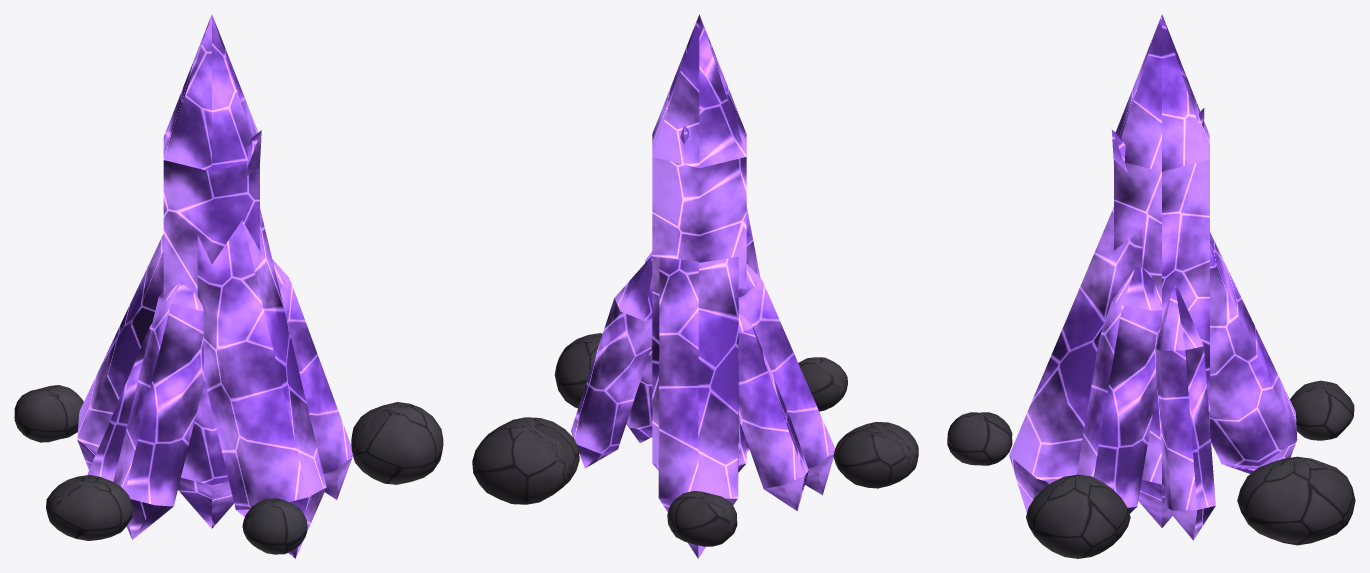
The model's file is crystals.glb.
The picture shows the model from 3 angles, left to right: view 1: azimuth 30°, elevation 25°; view 2: azimuth 150°, elevation 25°; view 3: azimuth 270°, elevation 25°; orthographic projection. The views are drawn at different scales.
Parts seen in each view (by area): view 1: Base; view 2: Base; view 3: Base.
Part boxes in pixels (box(x1,y1,x2,y2)): Base: box(14, 14, 443, 558); Base: box(472, 14, 918, 558); Base: box(947, 14, 1355, 558).
Bounding box in the file's own units: 0.7002 × 0.92 × 0.6617.
Materials: 2 (2 with a texture image).
